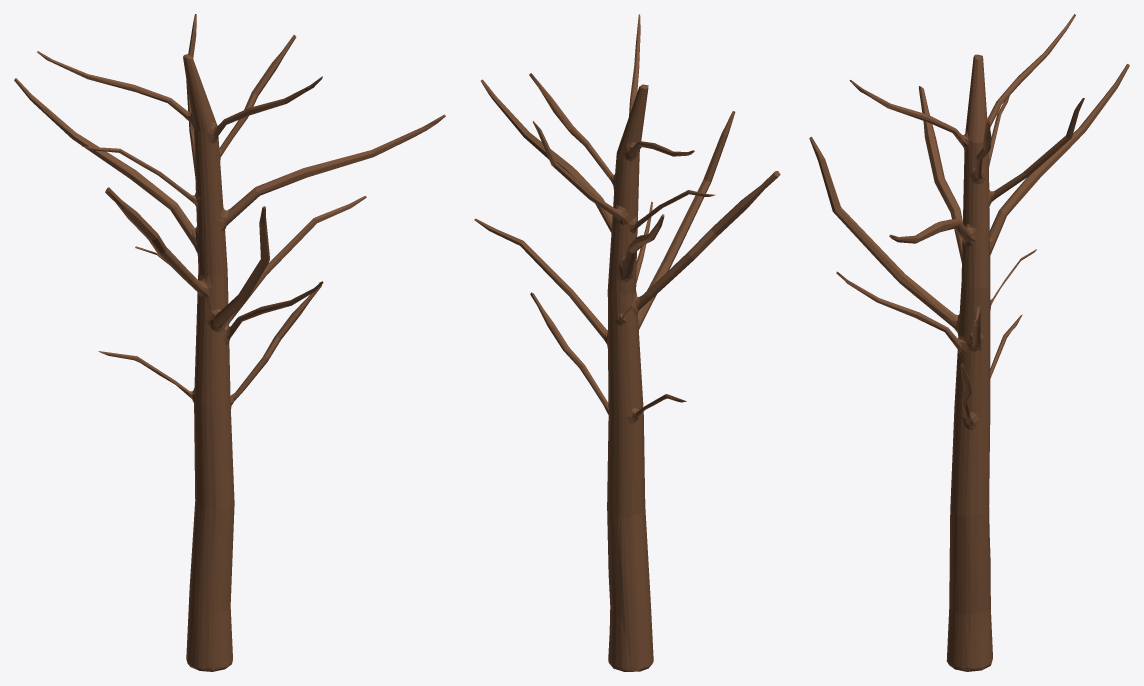
Rendered from SM_tree_winter_05.fbx.
3 views of the same model, side by side, from view 1: azimuth 30°, elevation 25°; view 2: azimuth 150°, elevation 25°; view 3: azimuth 270°, elevation 25° (orthographic). The views are drawn at different scales.
Visible parts, largest first — view 1: Object068; view 2: Object068; view 3: Object068.
Part boxes in pixels (x1,y1,x2,y2): Object068: [14, 14, 445, 671]; Object068: [474, 14, 780, 671]; Object068: [809, 14, 1129, 671].
Size of the model in its own units: 208 by 180 by 377.
